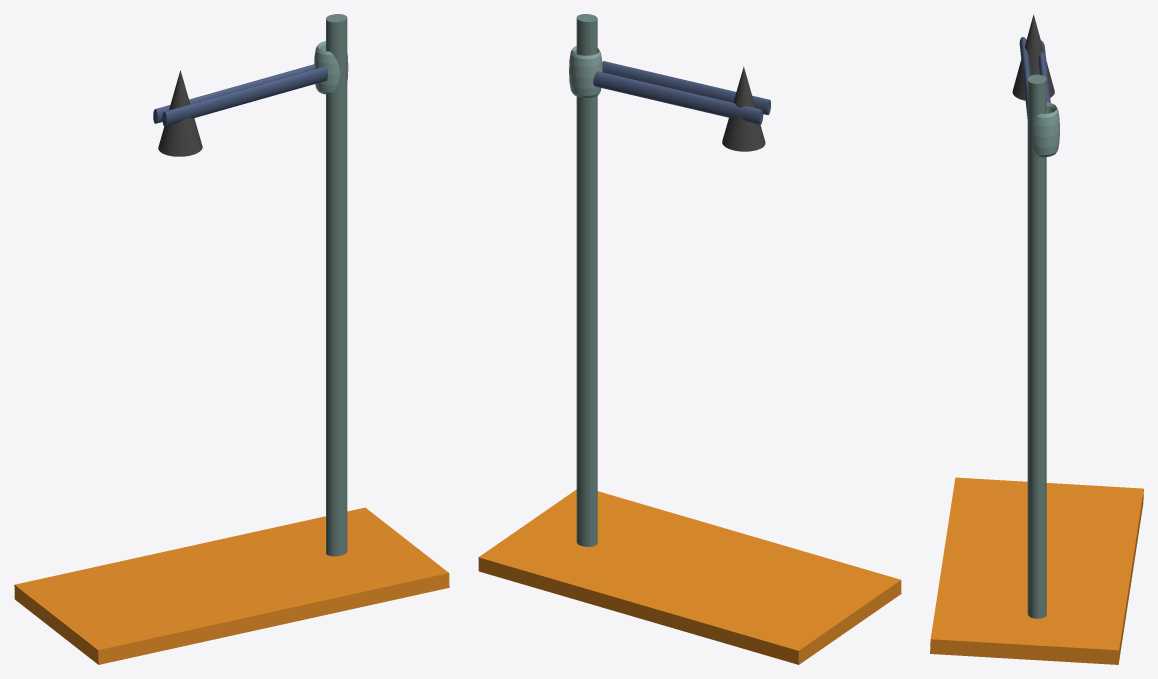
Rendered from retortstand.glb.
3 renders of one model, left to right at view 1: azimuth 30°, elevation 25°; view 2: azimuth 150°, elevation 25°; view 3: azimuth 270°, elevation 25°, orthographic.
Parts seen in each view (by area): view 1: Plane, Cylinder, Cylinder.001, Cone, Cylinder.002, Torus; view 2: Plane, Cylinder, Cylinder.002, Cylinder.001, Cone, Torus; view 3: Plane, Cylinder, Torus, Cone, Cylinder.001.
Boxes of the visible parts, x1,y1,x2,y2 form: Plane: (14,507,449,664); Cylinder: (326,14,347,556); Cylinder.001: (162,66,327,126); Cone: (158,70,202,156); Cylinder.002: (153,64,315,123); Torus: (314,41,348,94); Plane: (478,489,901,664); Cylinder: (576,14,597,546); Cylinder.002: (593,71,763,124); Cylinder.001: (602,61,770,115); Cone: (722,66,765,151); Torus: (569,46,602,97); Plane: (930,477,1143,664); Cylinder: (1027,74,1046,618); Torus: (1031,102,1059,157); Cone: (1012,14,1054,100); Cylinder.001: (1019,37,1030,118).
Bounding box in the file's own units: 4.86 × 7.38 × 2.58.
